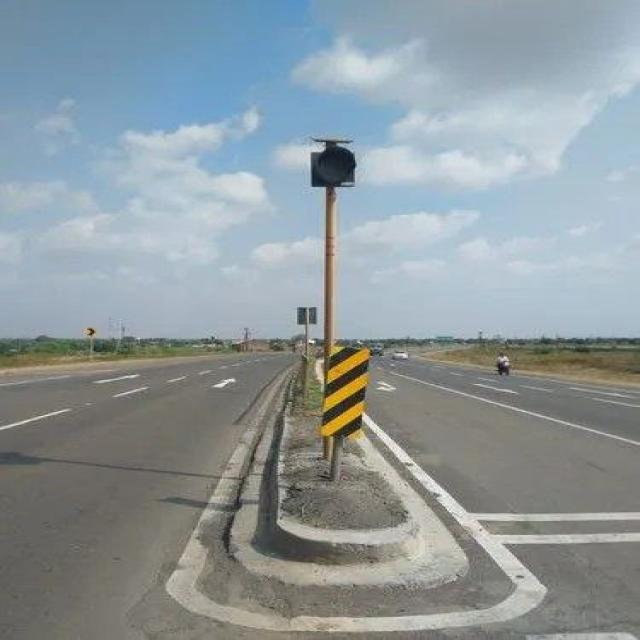object_hazzard_to_left: (300, 341, 392, 466)
